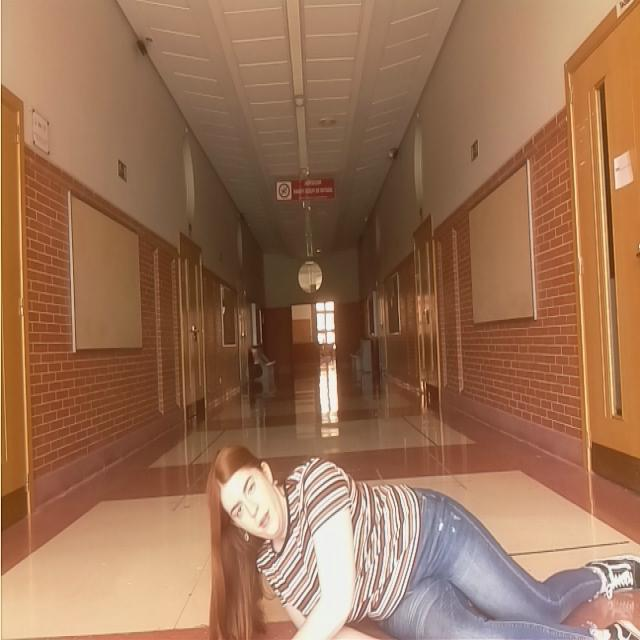fall: (189, 421, 639, 640)
